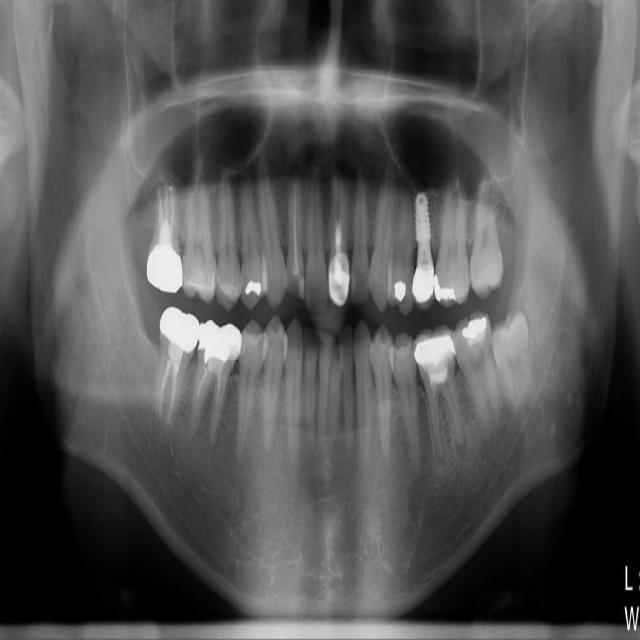52: (147, 302, 209, 364), (407, 321, 466, 383), (443, 308, 502, 370), (191, 317, 246, 374), (429, 254, 476, 311), (145, 237, 186, 294), (181, 250, 218, 306), (239, 251, 269, 312), (387, 256, 415, 315), (327, 251, 350, 314), (410, 266, 439, 311), (285, 259, 304, 300)
73: (179, 361, 232, 446), (152, 345, 191, 430), (151, 180, 180, 248), (287, 168, 308, 260), (329, 164, 347, 252), (610, 593, 616, 602)
BioHorizons Implant: (468, 167, 511, 301)
Biomet 3i Implant: (486, 308, 540, 419)
Blue Sky Bio Implant: (449, 309, 503, 442)
Caries: (146, 181, 183, 293)
Implant: (153, 306, 201, 430)
